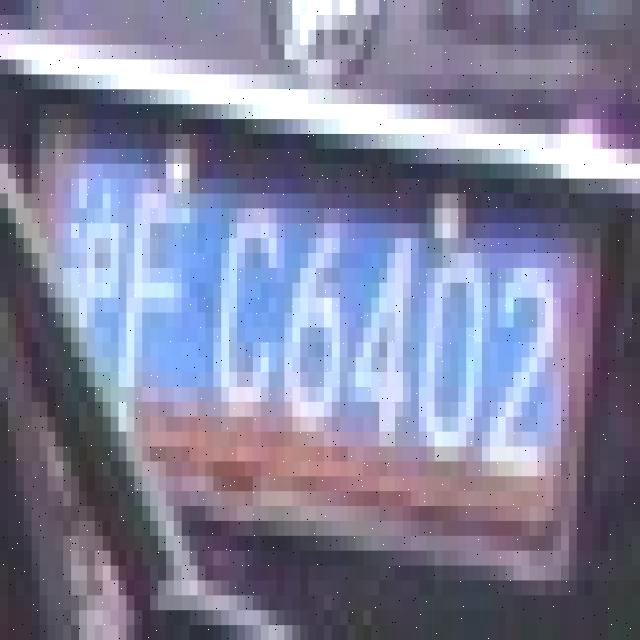licenseplate: (54, 96, 580, 564)
